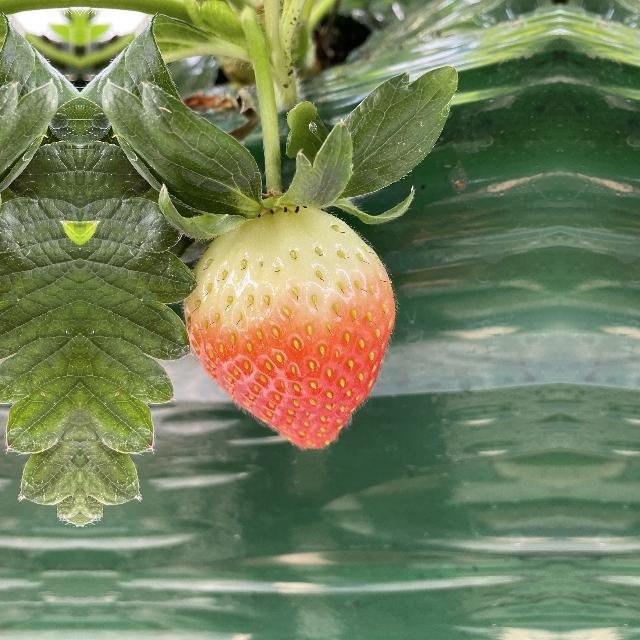Health_75: (178, 202, 408, 452)
